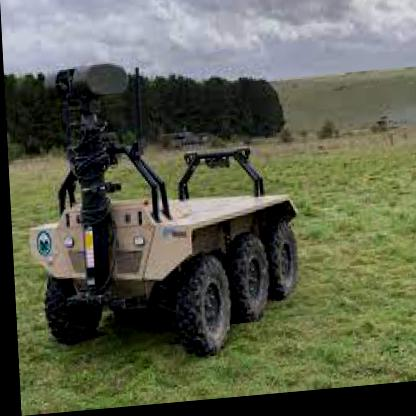UGV: (24, 149, 301, 372)
